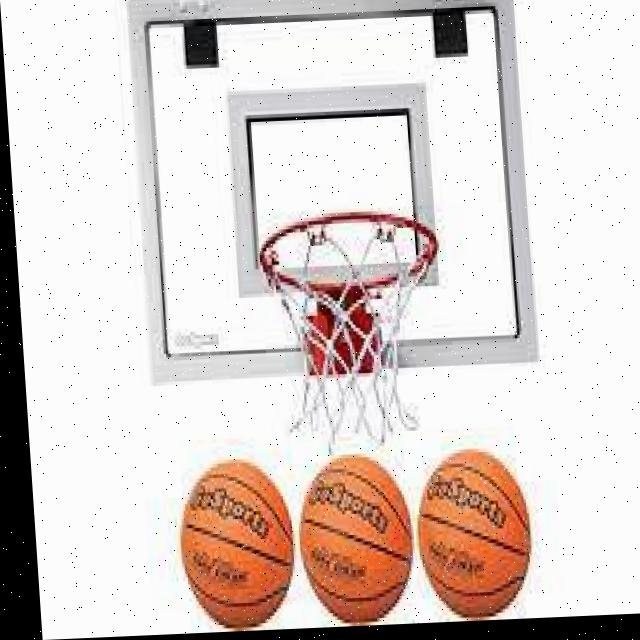basketball: (296, 452, 417, 625), (178, 461, 301, 630), (413, 449, 535, 615)
hoop: (254, 201, 454, 454)
